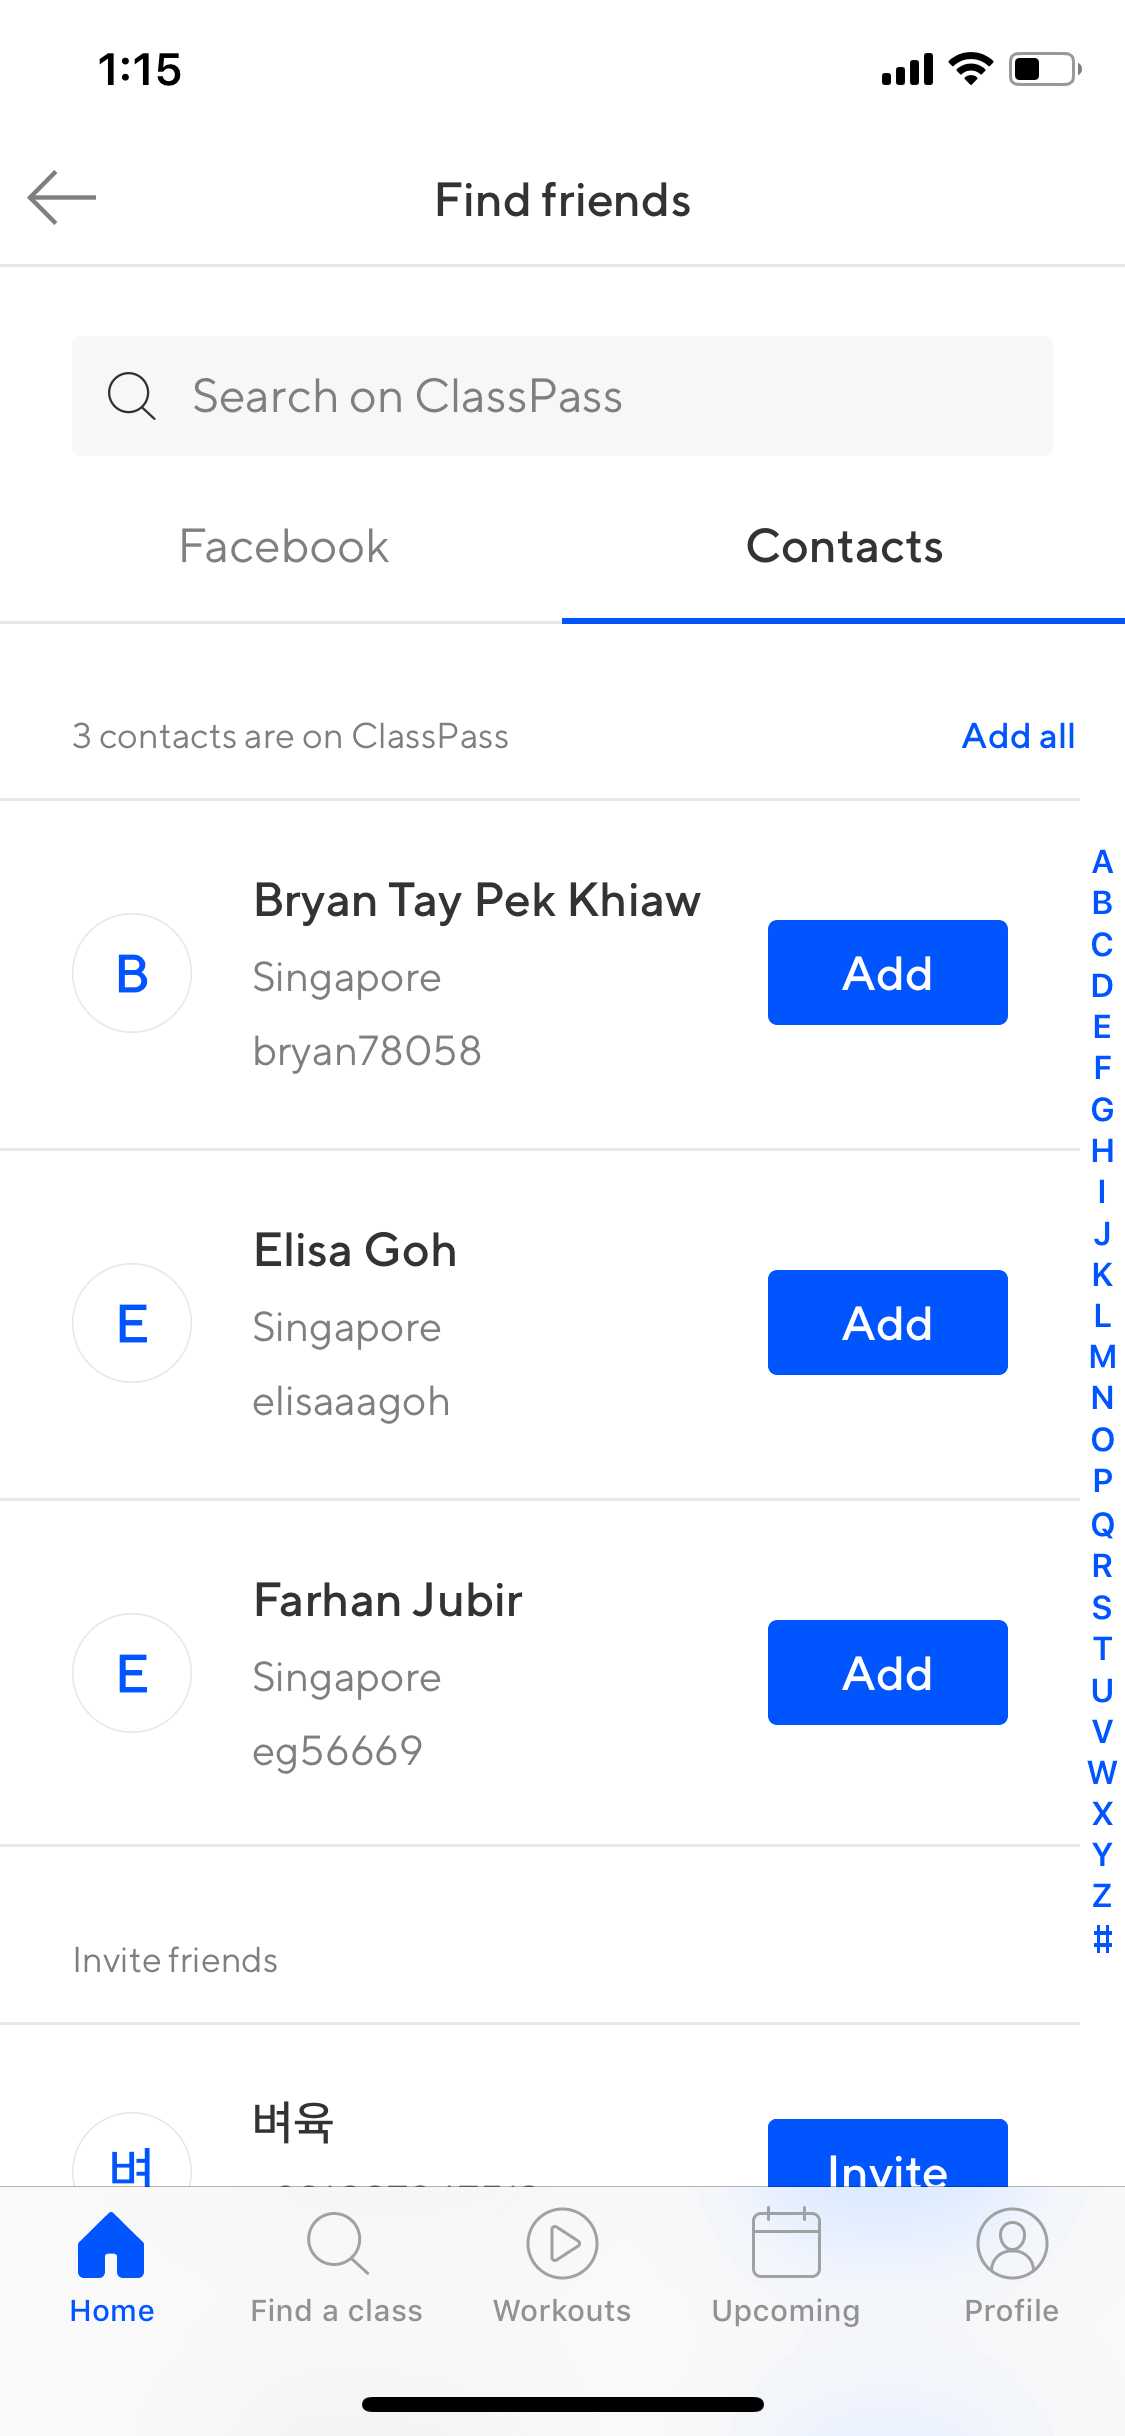Buttons: (757, 1243, 1022, 1397), (754, 1599, 1016, 1735), (749, 907, 1027, 1036), (761, 2102, 1016, 2191), (932, 677, 1113, 785), (14, 141, 127, 253)
